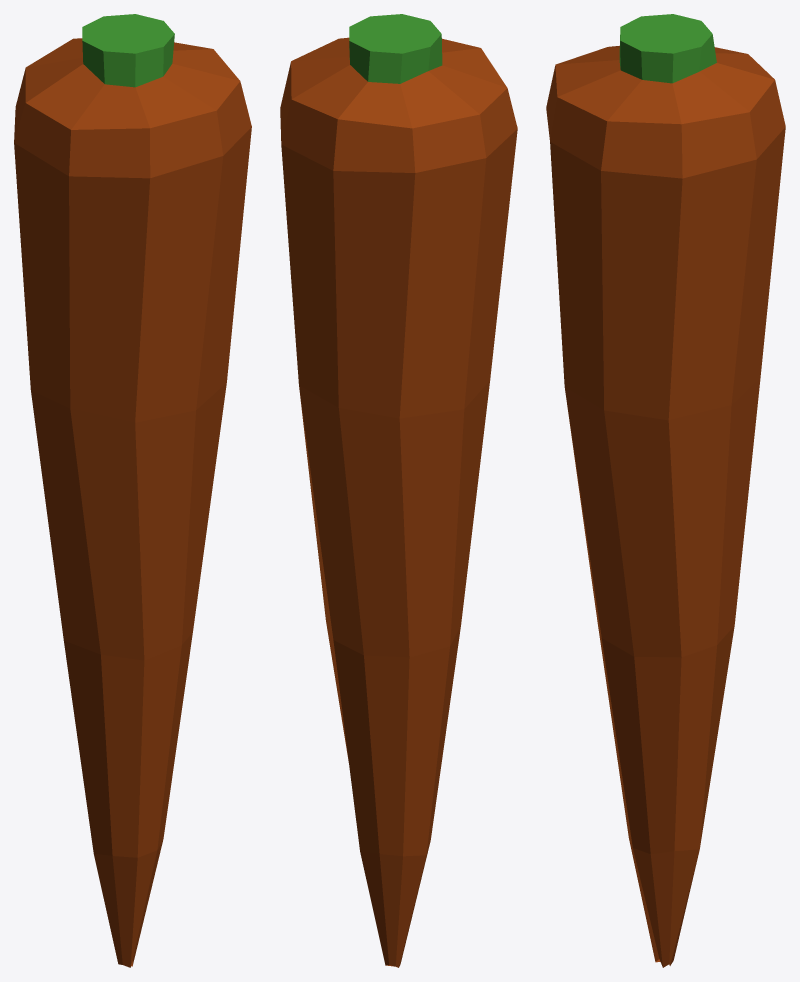
File: Carrot.fbx
The picture shows the model from 3 angles, left to right: view 1: azimuth 30°, elevation 25°; view 2: azimuth 150°, elevation 25°; view 3: azimuth 270°, elevation 25°; orthographic projection.
Visible parts, largest first — view 1: Sphere.008; view 2: Sphere.008; view 3: Sphere.008.
Part boxes in pixels (x1,y1,x2,y2): Sphere.008: [14, 14, 251, 967]; Sphere.008: [280, 14, 517, 967]; Sphere.008: [546, 14, 785, 967].
Bounding box in the file's own units: 10.8 × 46.38 × 10.81.
